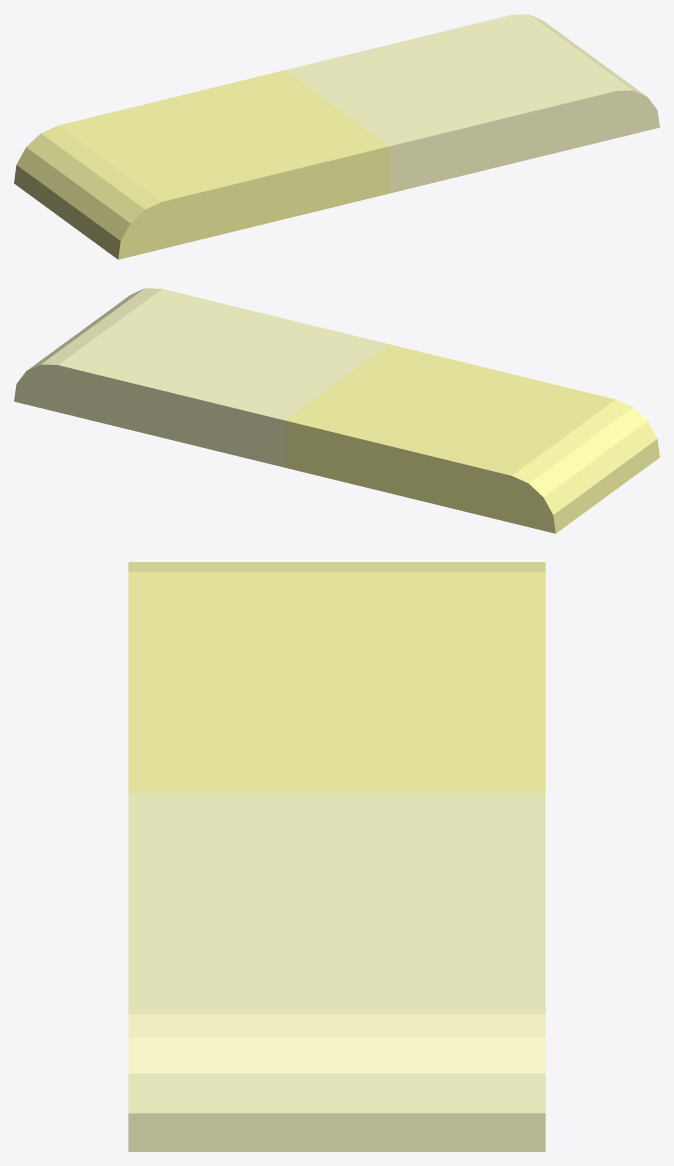
The model's file is island-plate-halfoval-small.fbx.
The picture shows the model from 3 angles, top to bottom: view 1: azimuth 30°, elevation 25°; view 2: azimuth 150°, elevation 25°; view 3: azimuth 270°, elevation 25°; orthographic projection. The views are drawn at different scales.
Parts seen in each view (by area): view 1: Plane; view 2: Plane; view 3: Plane.
Part boxes in pixels (x1,y1,x2,y2): Plane: [14, 14, 659, 259]; Plane: [14, 288, 659, 533]; Plane: [128, 562, 545, 1151].
Bounding box in the file's own units: 30000 × 2500 × 10000.
